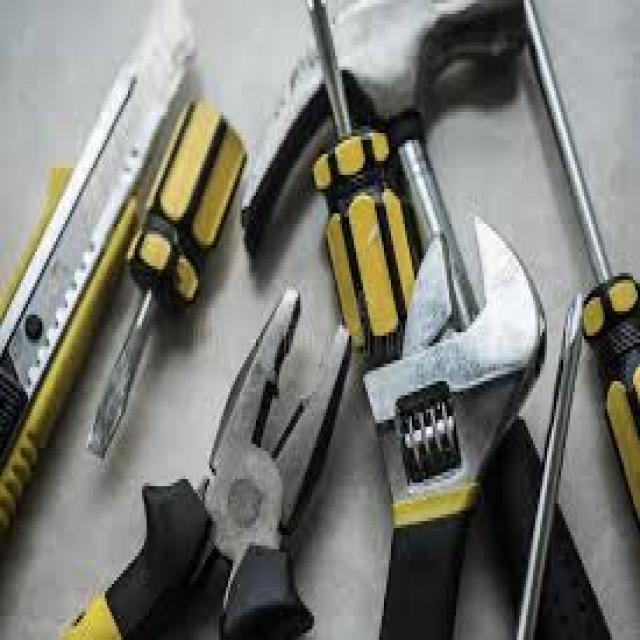wrench: (358, 189, 548, 622)
